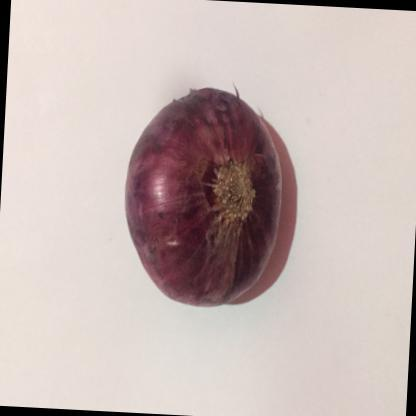onion: (99, 64, 303, 338)
